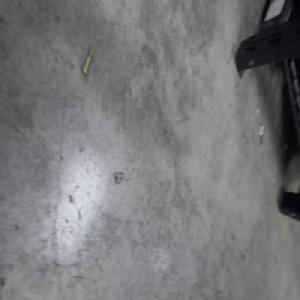Bolt: (79, 44, 95, 78)
